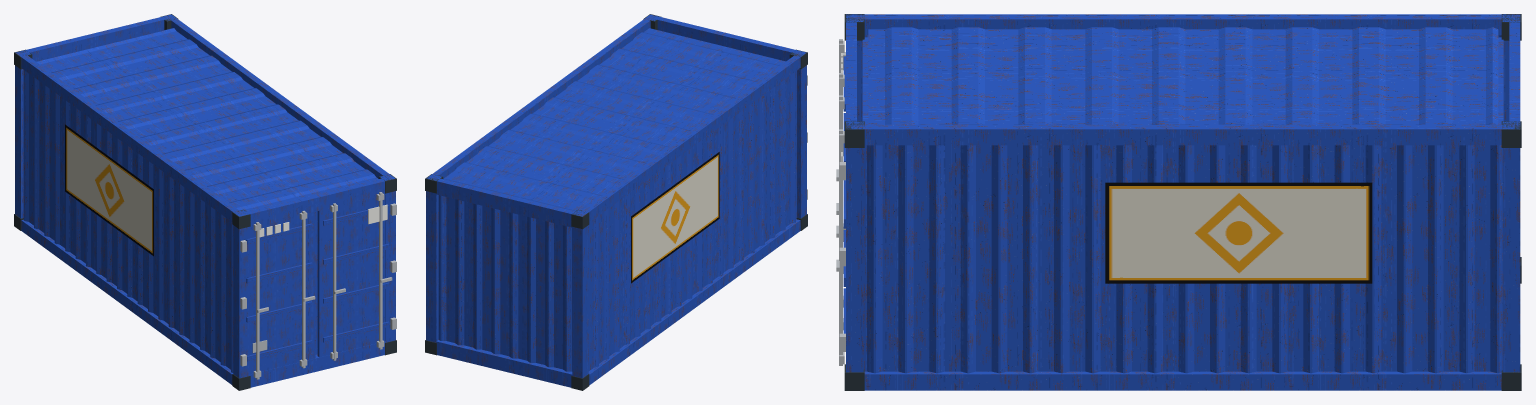
Rendered from container_blue.glb.
3 views of the same model, side by side, from view 1: azimuth 30°, elevation 25°; view 2: azimuth 150°, elevation 25°; view 3: azimuth 270°, elevation 25° (orthographic). The views are drawn at different scales.
Visible parts, largest first — view 1: harbor_container_blue; view 2: harbor_container_blue; view 3: harbor_container_blue.
Part boxes in pixels (box(x1,y1,x2,y2)): harbor_container_blue: box(14, 14, 396, 390); harbor_container_blue: box(425, 14, 807, 390); harbor_container_blue: box(836, 14, 1521, 390).
Bounding box in the file's own units: 2.46 × 2.59 × 6.15.
Materials: 6 (3 with a texture image).
